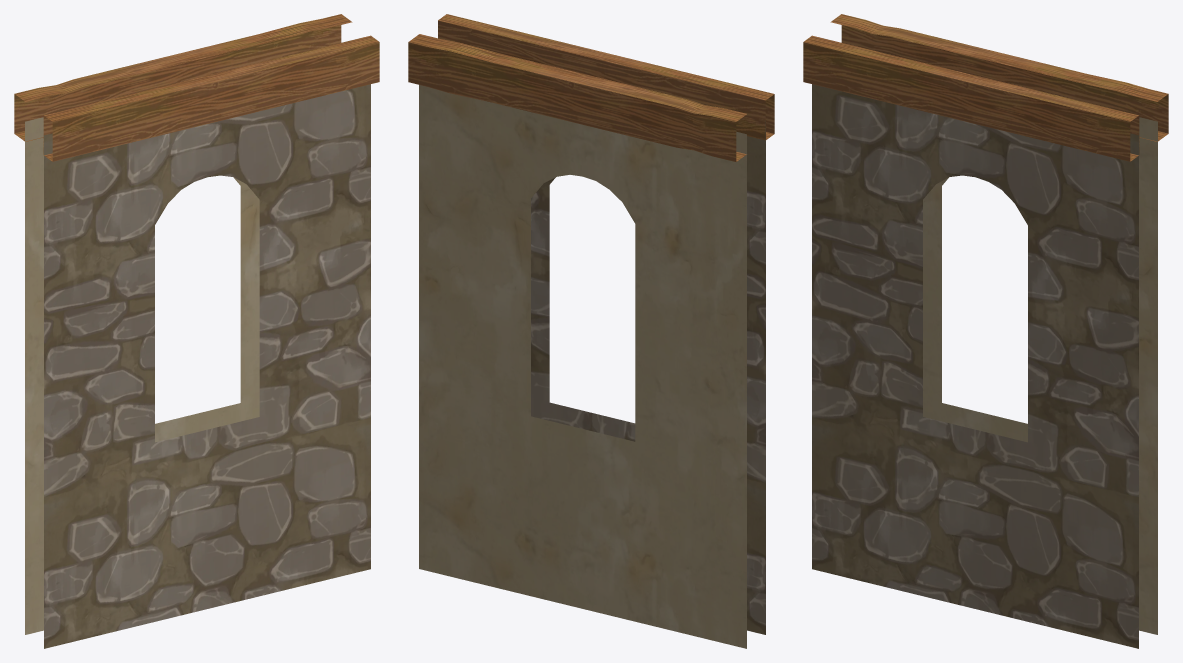
Rendered from Wall_UnevenBrick_Window_Thin_Round.glb.
3 renders of one model, left to right at view 1: azimuth 30°, elevation 25°; view 2: azimuth 150°, elevation 25°; view 3: azimuth 330°, elevation 25°, orthographic.
Parts seen in each view (by area): view 1: Wall_UnevenBrick_Window_Thin_Round; view 2: Wall_UnevenBrick_Window_Thin_Round; view 3: Wall_UnevenBrick_Window_Thin_Round.
Boxes of the visible parts, left/top/right/bottom form: Wall_UnevenBrick_Window_Thin_Round: left=14, top=14, right=379, bottom=648; Wall_UnevenBrick_Window_Thin_Round: left=408, top=14, right=774, bottom=648; Wall_UnevenBrick_Window_Thin_Round: left=803, top=14, right=1168, bottom=648.
Bounding box in the file's own units: 2 × 3.12 × 0.4064.
Materials: 3 (3 with a texture image).
